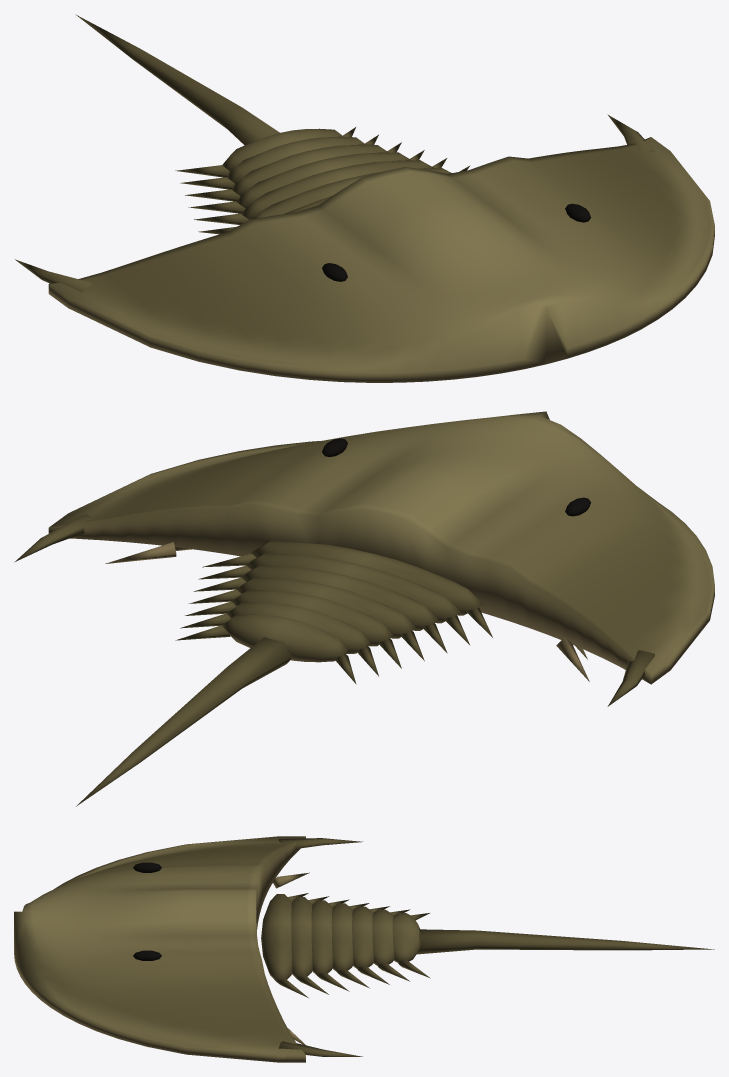
Rendered from LunataspisAurora.fbx.
3 views of the same model, one above another, from view 1: azimuth 30°, elevation 25°; view 2: azimuth 150°, elevation 25°; view 3: azimuth 270°, elevation 25° (orthographic). The views are drawn at different scales.
Visible parts, largest first — view 1: LunataspisAurora; view 2: LunataspisAurora; view 3: LunataspisAurora.
Boxes of the visible parts, bbox=[...] form: LunataspisAurora: bbox=[15, 14, 714, 382]; LunataspisAurora: bbox=[14, 411, 714, 806]; LunataspisAurora: bbox=[14, 836, 714, 1062].
Bounding box in the file's own units: 1.24 × 0.165 × 1.68.
